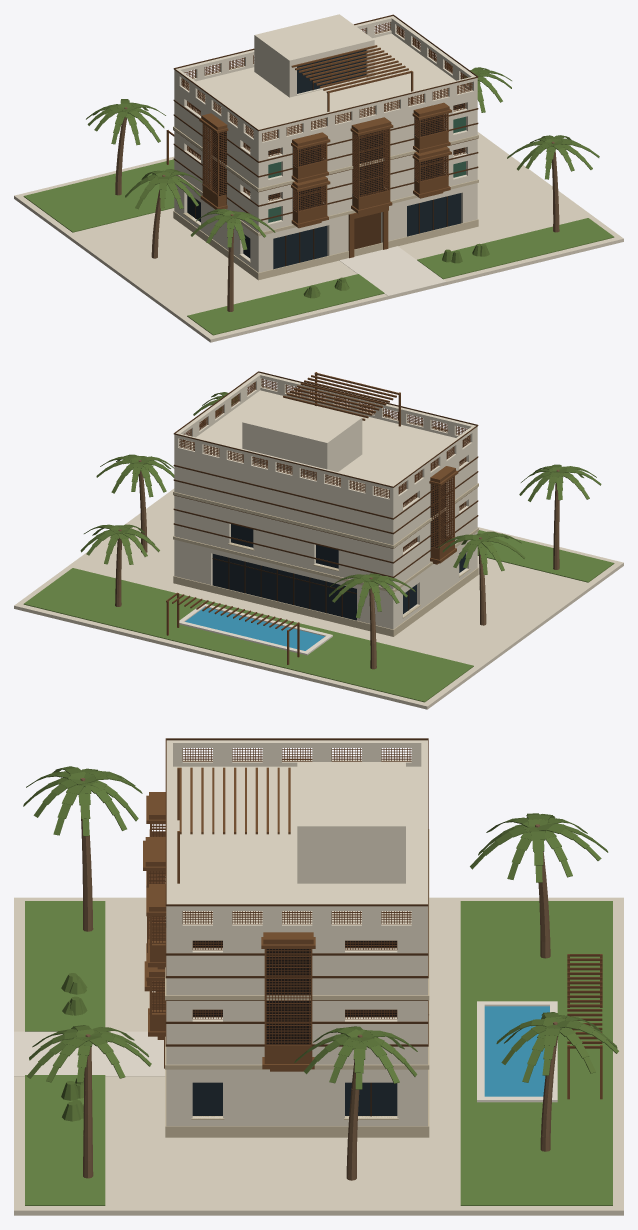
Rendered from hijazi.glb.
3 views of the same model, one above another, from view 1: azimuth 30°, elevation 25°; view 2: azimuth 150°, elevation 25°; view 3: azimuth 270°, elevation 25° (orthographic). The views are drawn at different scales.
Visible parts, largest first — view 1: Hijazi_coral, Hijazi_pave, Hijazi_lawn, Hijazi_wood, Hijazi_lattice, Hijazi_leaf, Hijazi_glass, Hijazi_coral_course, Hijazi_shadow, Hijazi_timber, Hijazi_coping, Hijazi_trunk (+3 smaller); view 2: Hijazi_coral, Hijazi_pave, Hijazi_lawn, Hijazi_leaf, Hijazi_glass, Hijazi_lattice, Hijazi_coral_course, Hijazi_wood, Hijazi_timber, Hijazi_trunk, Hijazi_water, Hijazi_coping (+2 smaller); view 3: Hijazi_coral, Hijazi_pave, Hijazi_lawn, Hijazi_leaf, Hijazi_lattice, Hijazi_wood, Hijazi_coral_course, Hijazi_coping, Hijazi_timber, Hijazi_trunk, Hijazi_water, Hijazi_shadow (+1 smaller).
Boxes of the visible parts, x1,y1,x2,y2 form: Hijazi_coral: (174,14,477,272); Hijazi_pave: (14,132,623,342); Hijazi_lawn: (23,159,614,335); Hijazi_wood: (166,45,452,258); Hijazi_lattice: (167,22,472,211); Hijazi_leaf: (86,67,599,298); Hijazi_glass: (187,50,461,269); Hijazi_coral_course: (173,126,478,280); Hijazi_shadow: (190,103,464,210); Hijazi_timber: (173,14,478,220); Hijazi_coping: (339,246,445,295); Hijazi_trunk: (115,107,559,311); Hijazi_coral: (174,372,477,629); Hijazi_pave: (14,488,623,709); Hijazi_lawn: (23,530,614,702); Hijazi_leaf: (80,392,601,618); Hijazi_glass: (212,524,465,620); Hijazi_lattice: (166,378,470,631); Hijazi_coral_course: (173,483,478,636); Hijazi_wood: (166,372,458,664); Hijazi_timber: (173,371,478,577); Hijazi_trunk: (115,400,559,669); Hijazi_water: (185,607,324,650); Hijazi_coping: (179,603,332,655); Hijazi_coral: (166,740,427,1126); Hijazi_pave: (14,897,623,1215); Hijazi_lawn: (25,901,612,1205); Hijazi_leaf: (23,766,618,1121); Hijazi_lattice: (149,748,602,1048); Hijazi_wood: (143,759,602,1099); Hijazi_coral_course: (165,829,429,1137); Hijazi_coping: (14,1001,557,1102); Hijazi_timber: (165,738,428,1046); Hijazi_trunk: (80,778,557,1180); Hijazi_water: (484,1006,549,1096); Hijazi_shadow: (166,921,396,1044).
Size of the model in its own units: 34 by 13.65 by 28.
